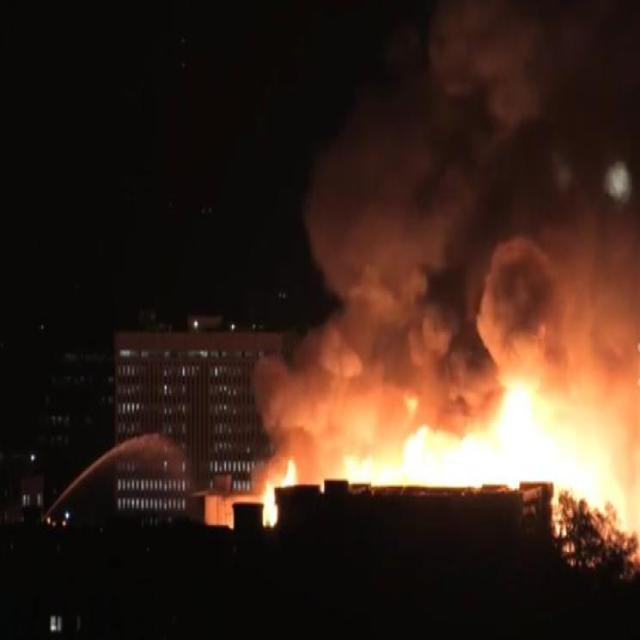Fire: (229, 352, 626, 505)
